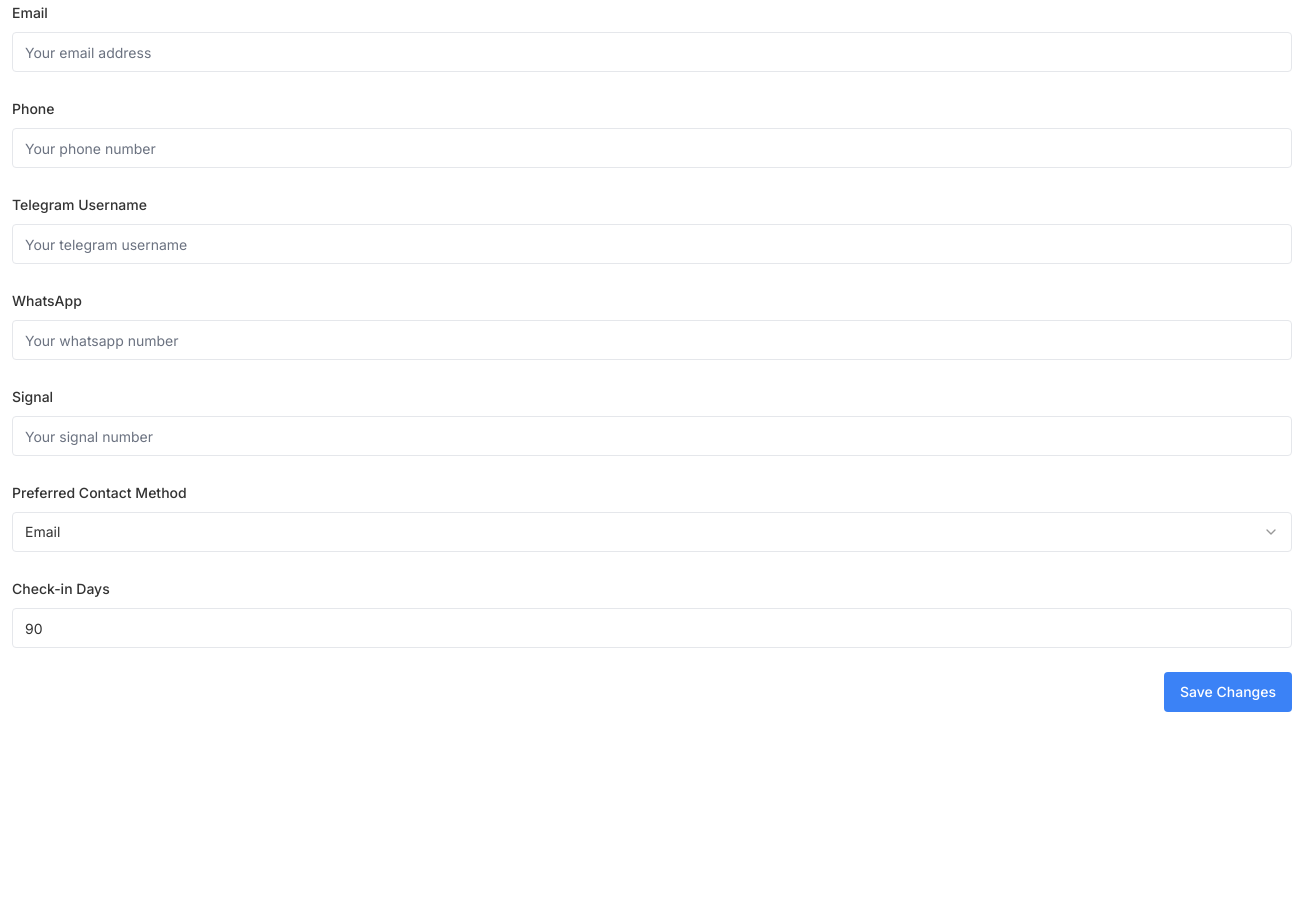
Test: ContactMethodsForm Component › shows generic error message for unknown errors
Click the button "Save Changes" at (1228, 692), box [1164,672,1292,712]
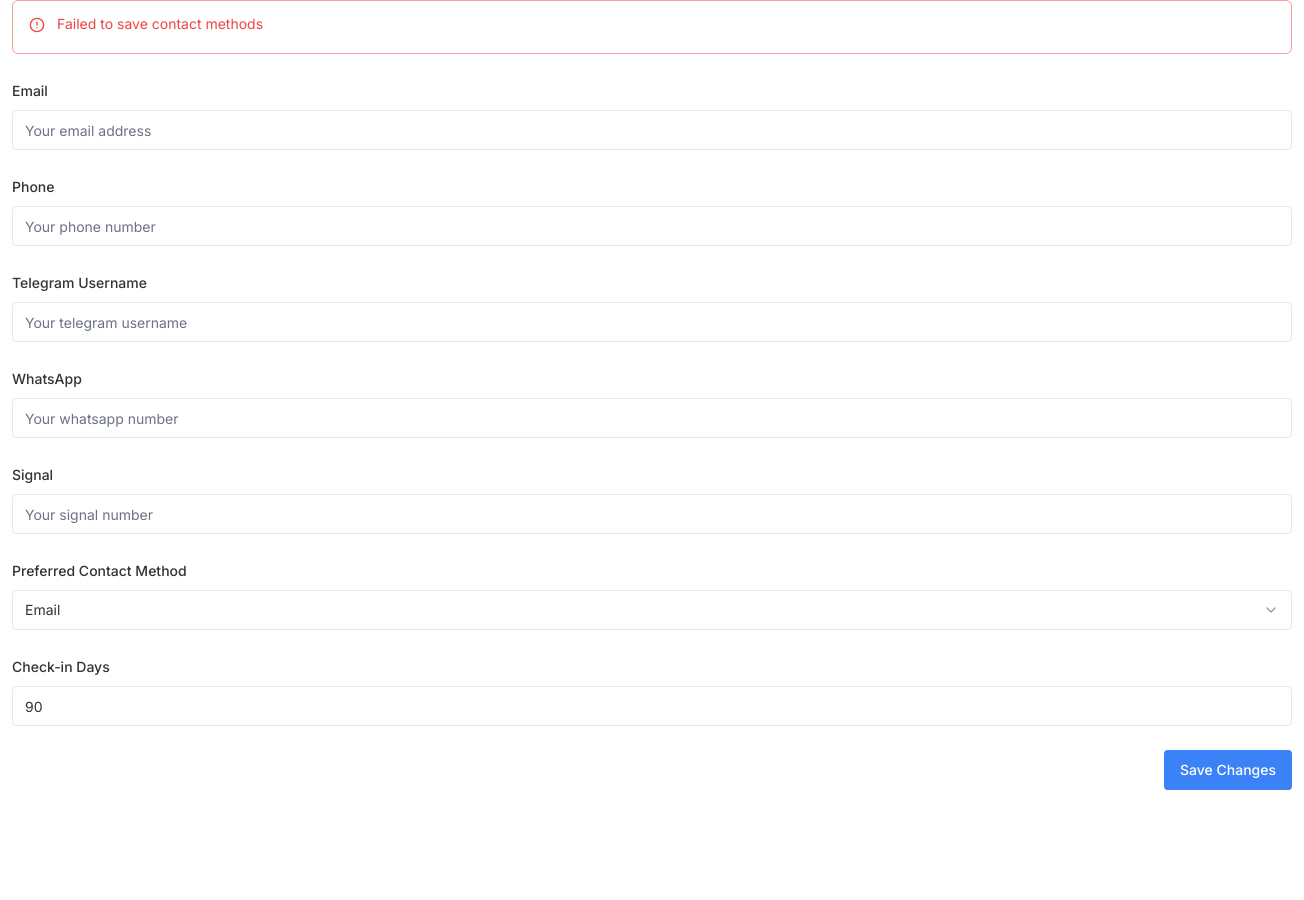
Expected: the text "Failed to save contact methods" is shown, [57,15,263,32]
